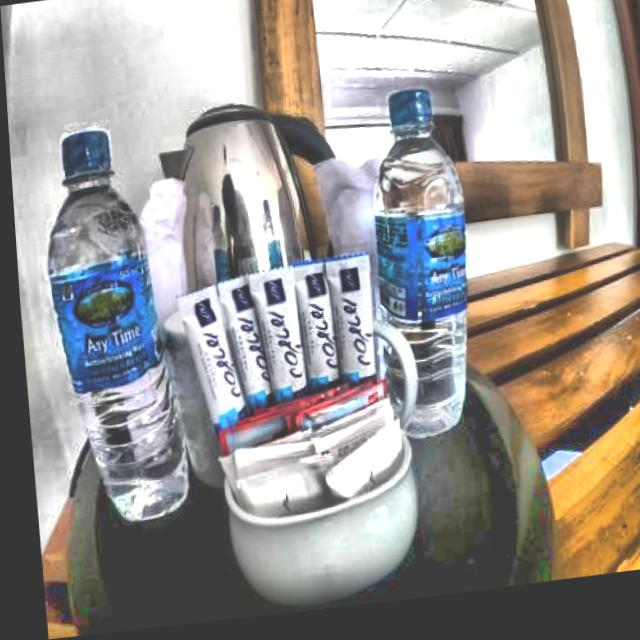Bottles: (24, 106, 200, 555), (352, 85, 488, 471)
